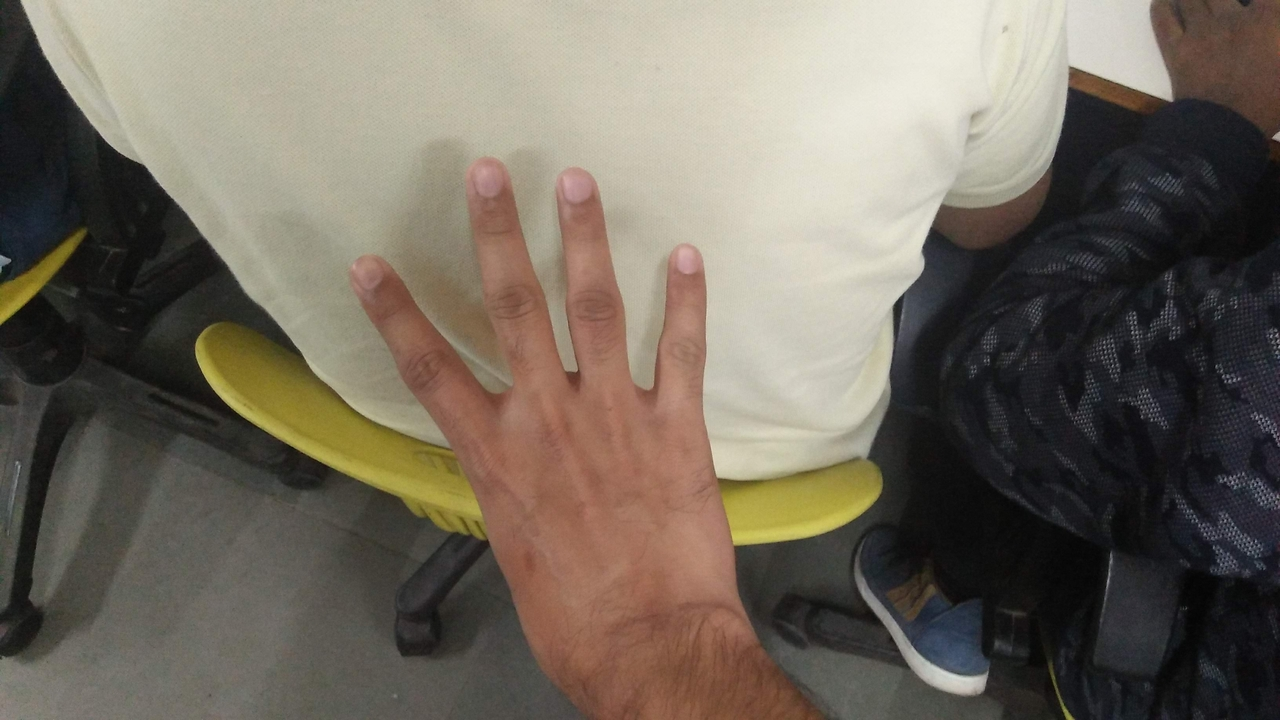fingertip: (336, 246, 400, 304), (458, 152, 516, 208), (548, 162, 604, 218), (658, 234, 712, 290)
